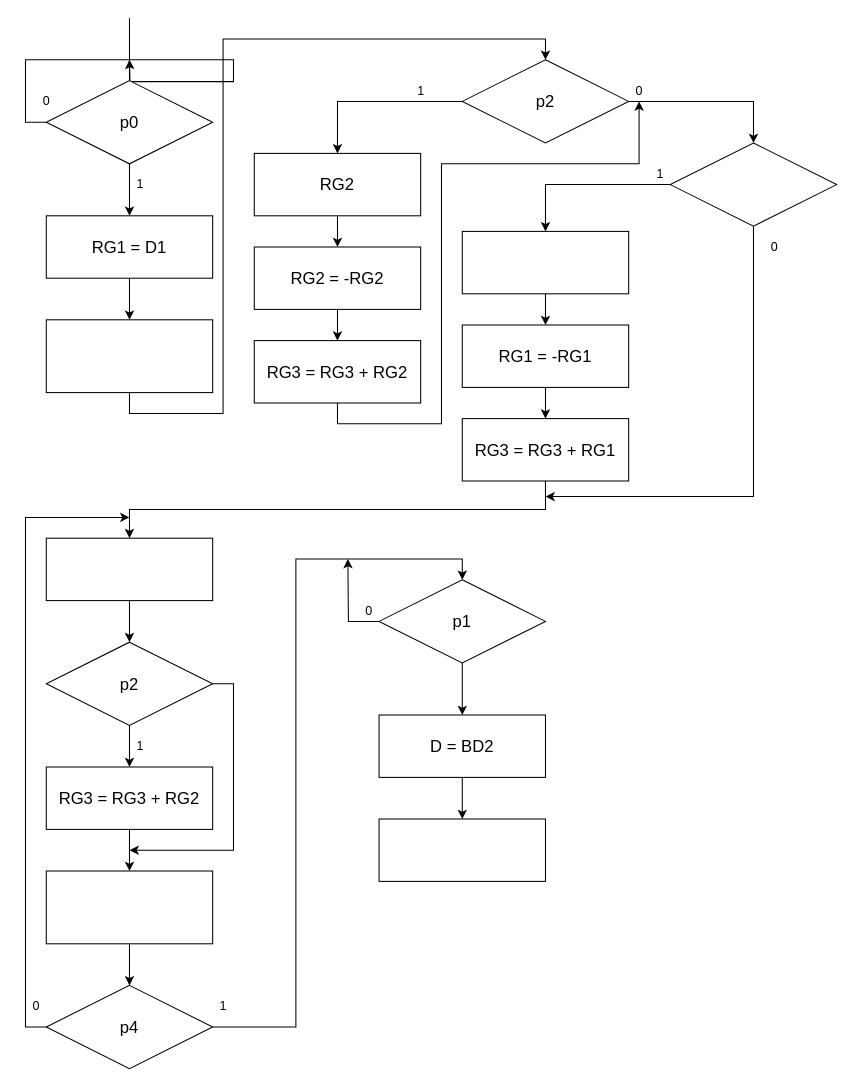
Image size: 855x1087. Some labels were removed from this diagram. The centre of each missing label's shape, as x and y in pixels:
D = BD1: [461,849]
p3: [753,184]
RG1: [545,262]
RG1[6..0].0 CT1 = CT1 + 1: [129,907]
RG2 = D2 RG3 = 0 CT1 = 0001: [129,356]
RG3 = RG3[14..0].0: [129,569]
